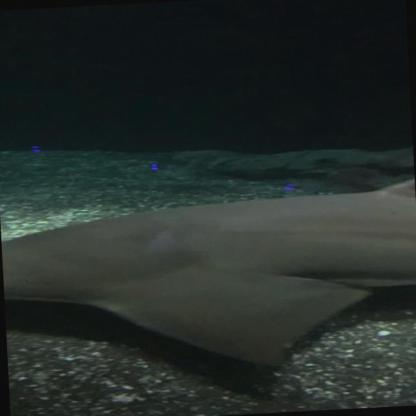shark: (0, 175, 415, 388)
